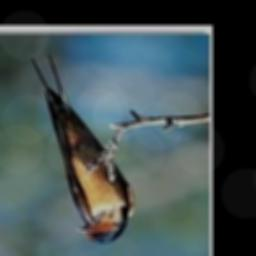Swallow: (31, 55, 135, 244)
